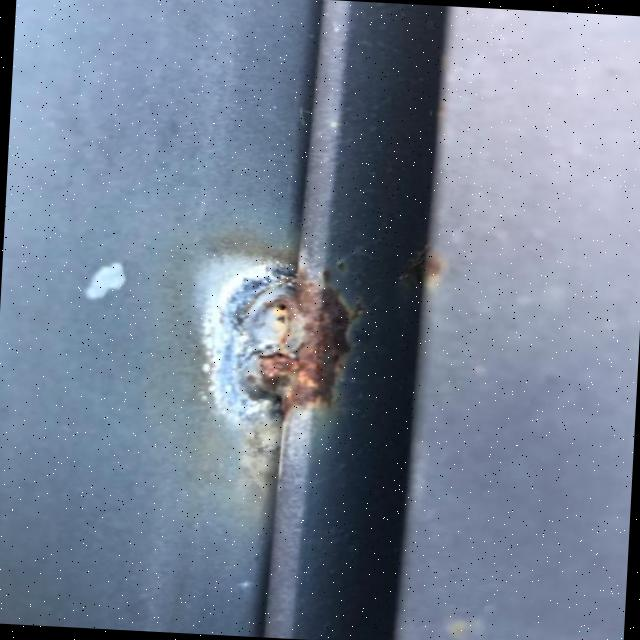Corrosion: (0, 0, 454, 640), (244, 266, 367, 419)
